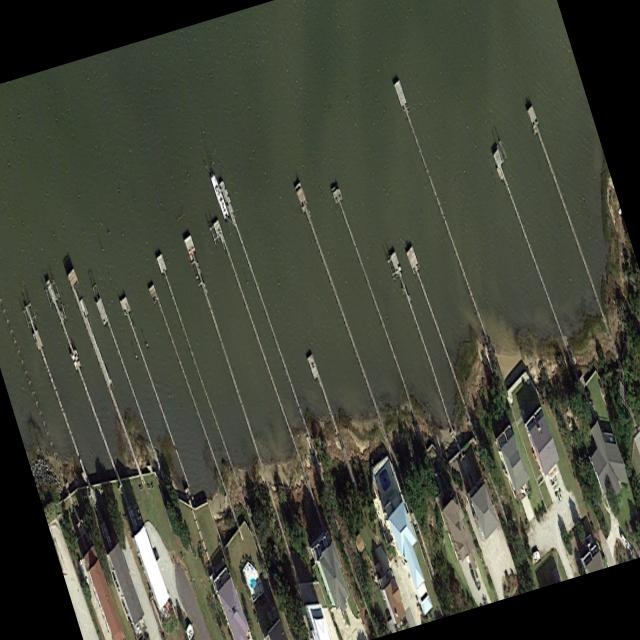ship: (209, 171, 230, 222), (78, 558, 89, 586), (184, 620, 195, 640), (529, 547, 541, 565)
small-vehicle: (620, 530, 630, 552)
